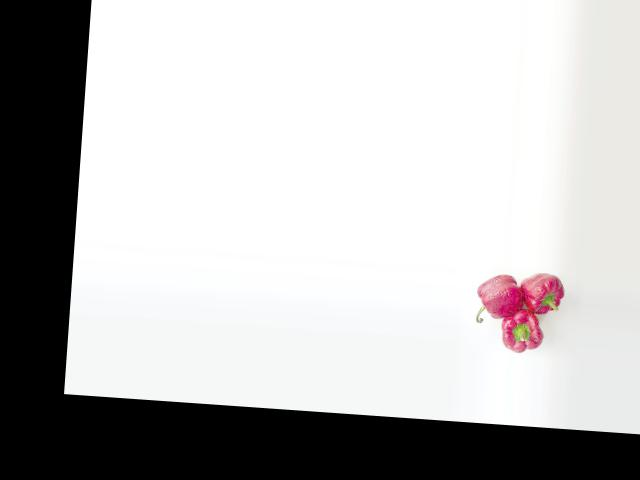bell_pepper: (464, 269, 521, 328)
